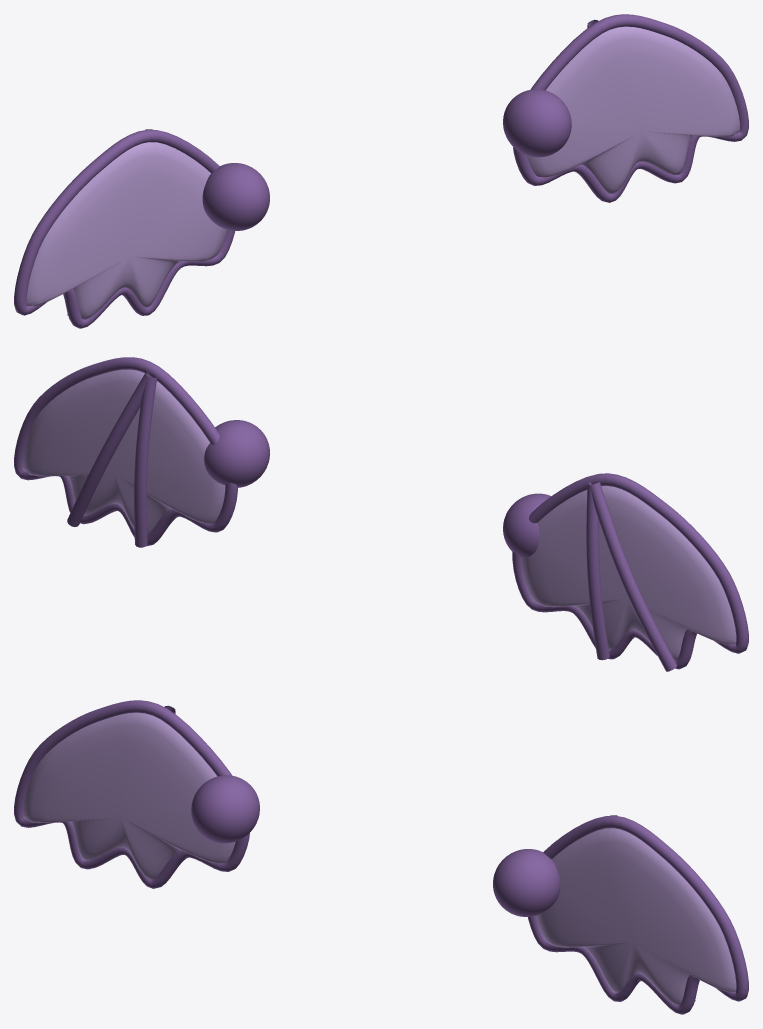
File: bat-wings.glb
3 views of the same model, one above another, from view 1: azimuth 30°, elevation 25°; view 2: azimuth 150°, elevation 25°; view 3: azimuth 330°, elevation 25° (orthographic).
Visible parts, largest first — view 1: wings_right_membrane, wings_left_membrane, wings_left_rim, wings_right_rim, wings_right_root, wings_left_root; view 2: wings_left_membrane, wings_right_membrane, wings_left_rim, wings_right_rim, wings_right_root, wings_left_rib0, wings_right_rib1, wings_left_rib1, wings_right_rib0, wings_left_root; view 3: wings_left_membrane, wings_right_membrane, wings_right_rim, wings_left_rim, wings_left_root, wings_right_root.
Part boxes in pixels (x1,y1,x2,y2): wings_right_membrane: [527, 26, 739, 193]; wings_left_membrane: [26, 142, 226, 319]; wings_left_rim: [14, 129, 234, 328]; wings_right_rim: [513, 14, 748, 202]; wings_right_root: [503, 89, 571, 157]; wings_left_root: [202, 163, 269, 230]; wings_left_membrane: [521, 485, 736, 660]; wings_right_membrane: [22, 369, 225, 535]; wings_left_rim: [512, 473, 748, 669]; wings_right_rim: [14, 357, 237, 546]; wings_right_root: [204, 420, 269, 487]; wings_left_rib0: [590, 482, 677, 671]; wings_right_rib1: [134, 373, 157, 547]; wings_left_rib1: [586, 482, 609, 660]; wings_right_rib0: [67, 371, 152, 526]; wings_left_root: [503, 493, 551, 557]; wings_left_membrane: [23, 712, 235, 879]; wings_right_membrane: [536, 828, 736, 1005]; wings_right_rim: [528, 815, 748, 1014]; wings_left_rim: [14, 700, 249, 888]; wings_left_root: [191, 775, 259, 843]; wings_right_root: [493, 849, 560, 916].
Size of the model in its own units: 3.01 by 0.7275 by 0.2877.
